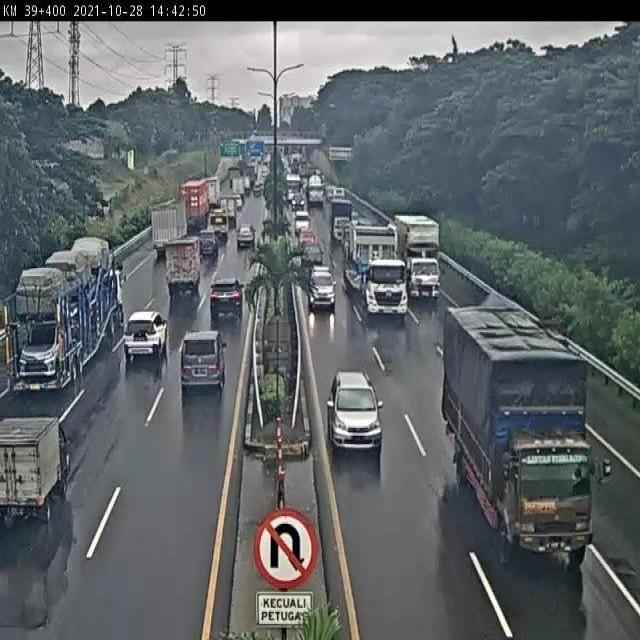big truck: (7, 237, 127, 391)
car: (328, 369, 383, 452), (178, 329, 227, 394), (123, 316, 172, 361), (209, 275, 245, 320), (307, 268, 339, 315), (301, 238, 324, 270), (198, 229, 219, 260), (237, 222, 256, 246)
mid truck: (205, 211, 228, 237)
small truck: (0, 414, 71, 518)
truck-l-: (444, 308, 598, 564), (394, 211, 440, 300)
truck-m-: (165, 238, 201, 298), (151, 200, 192, 249)
truck-xl-: (350, 222, 410, 318)
